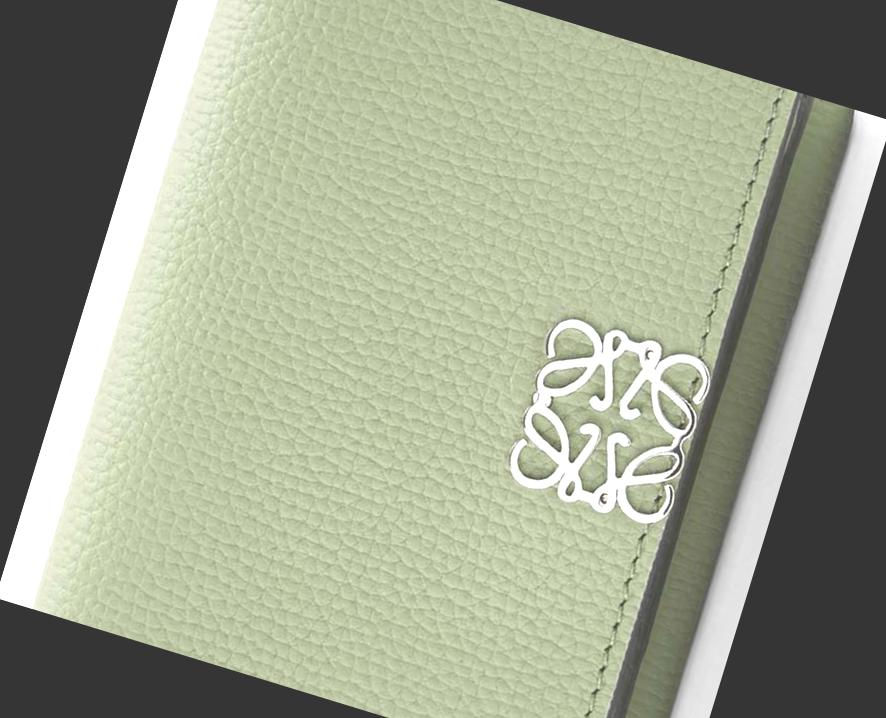LOEWE: (483, 291, 733, 550)
